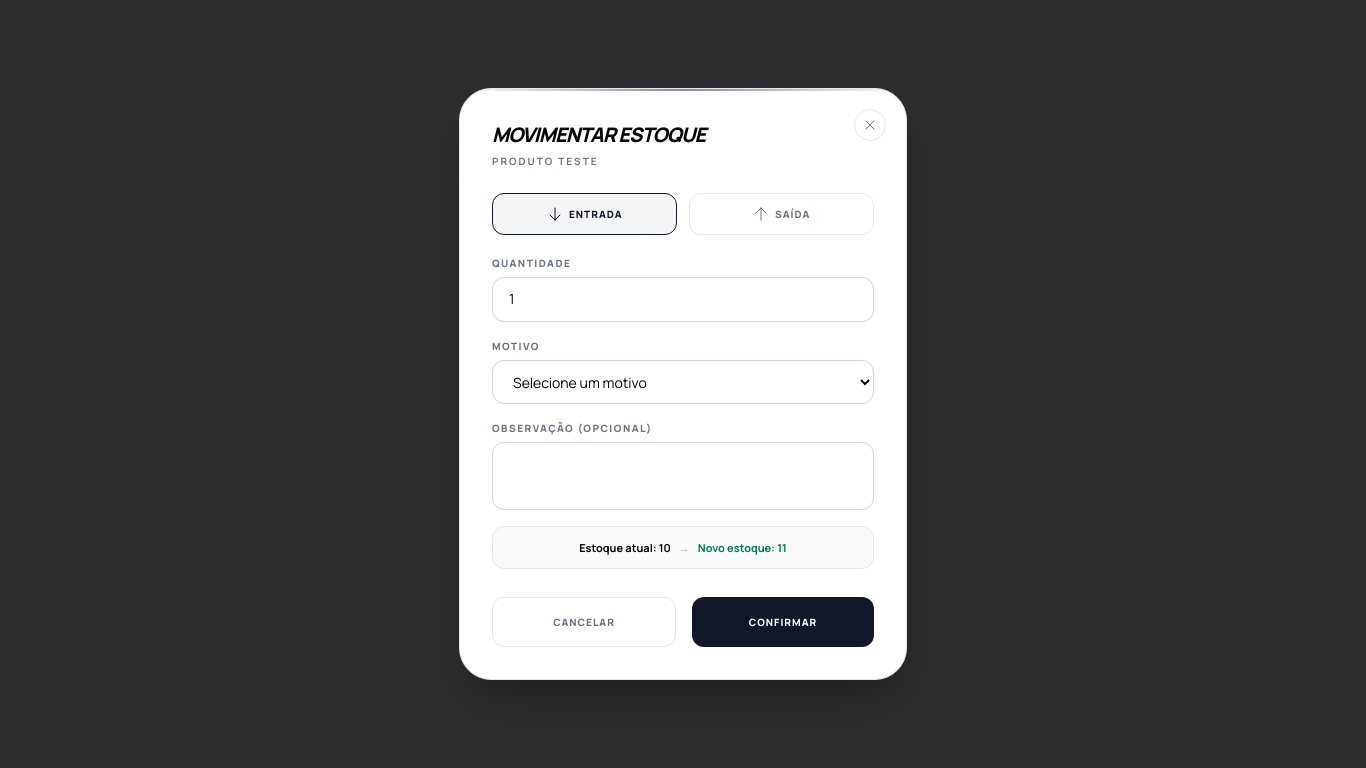
Test: StockMovementModal › blocks submit and shows an error when quantity is zero
The image size is (1366, 768).
Replace the text in the number field with test id "input-movement-quantity" with "0" at [683, 299], box left=492, top=277, right=874, bottom=322
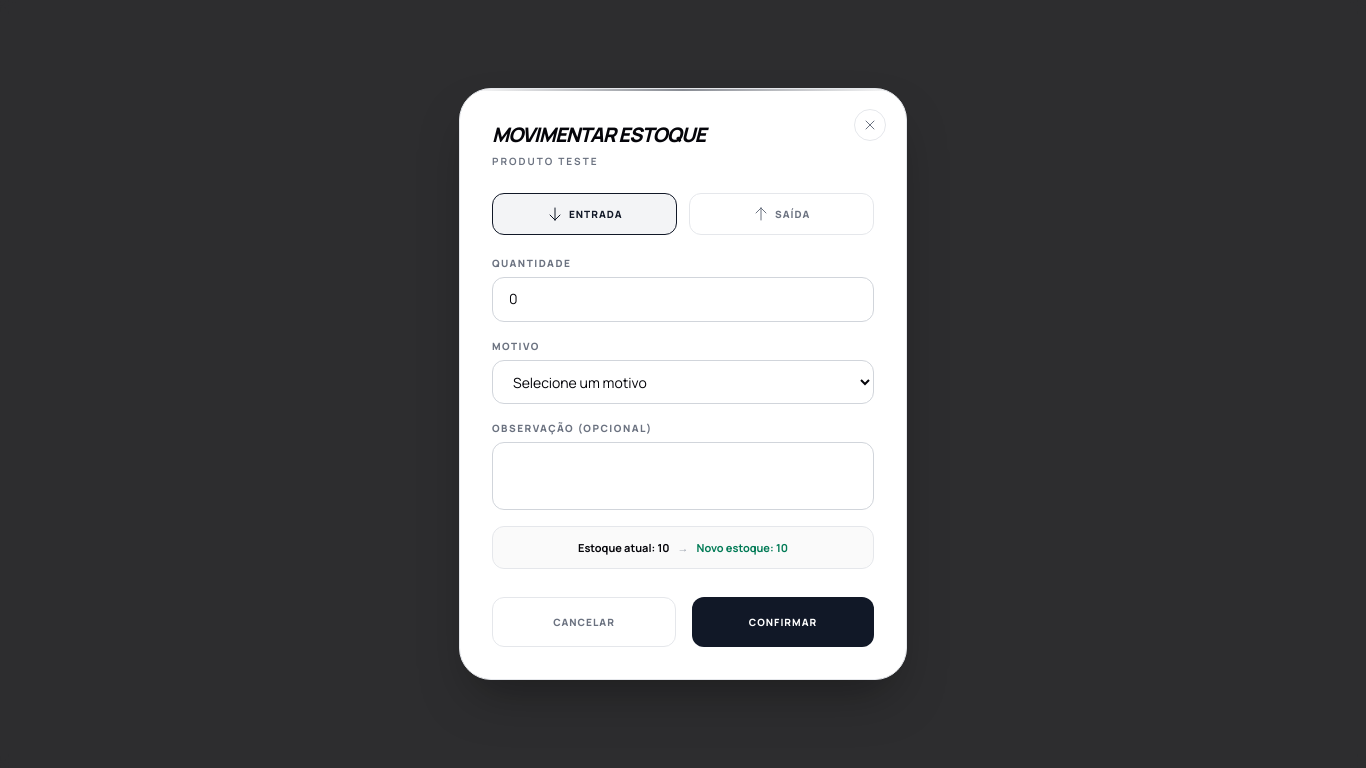
Select "Compra" in the dropdown with test id "select-movement-reason" at [683, 382], box left=492, top=360, right=874, bottom=404
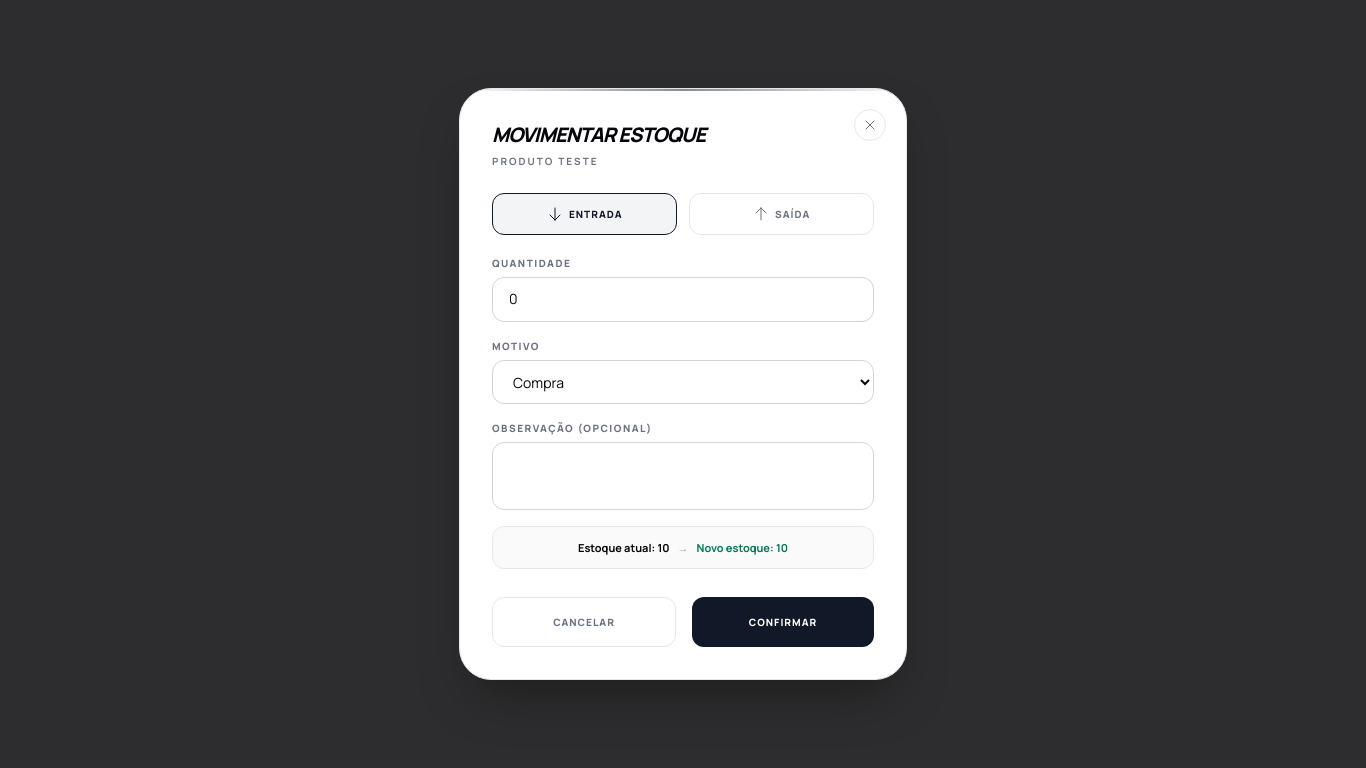
Click the button with test id "btn-confirm-movement" at [783, 622], box left=692, top=597, right=874, bottom=647
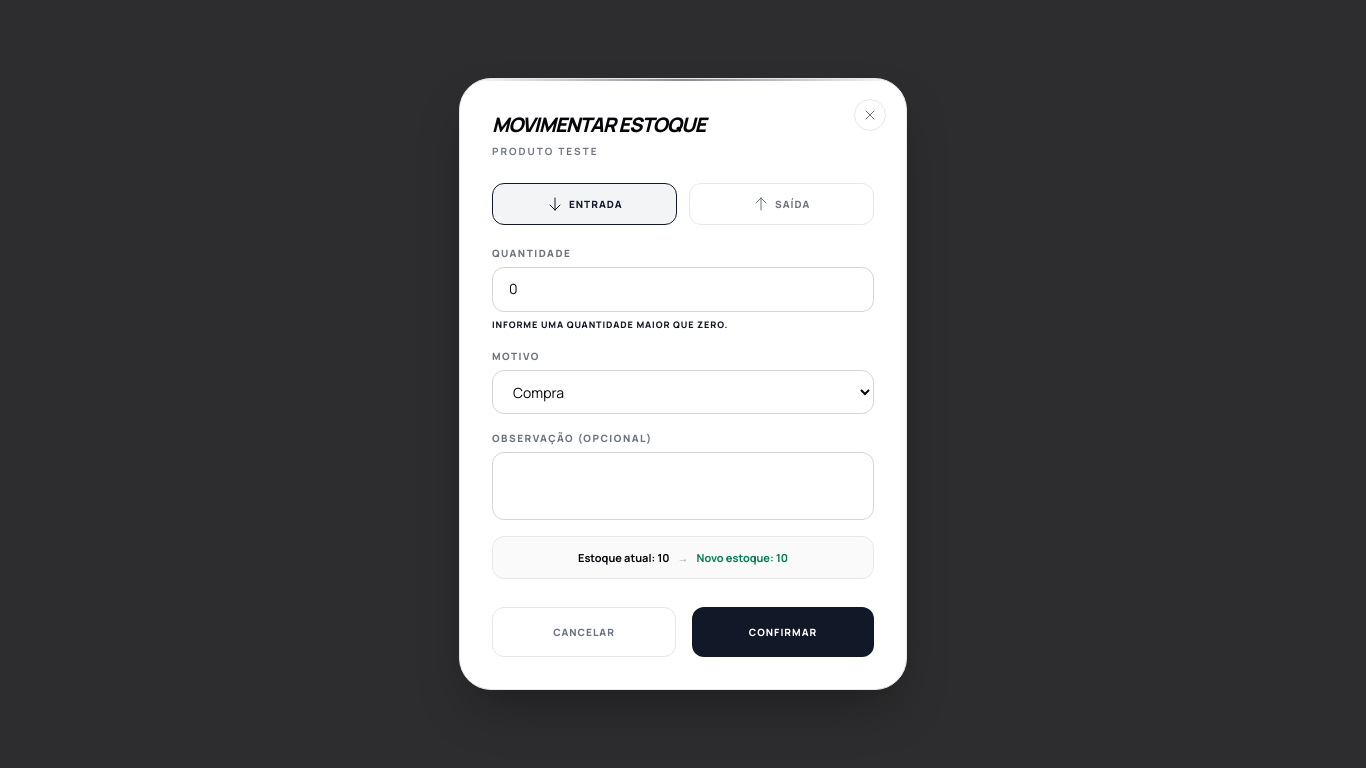
expect the text "Informe uma quantidade maior que zero." is shown: met, box left=492, top=318, right=728, bottom=331
